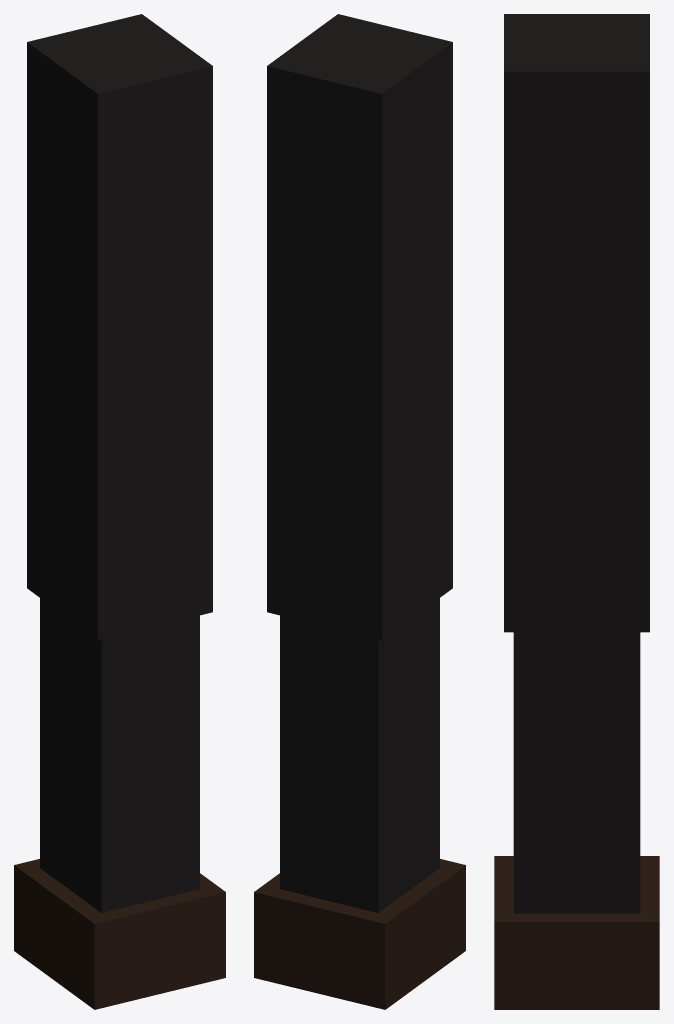
File: carreta_leg_negro.obj
3 renders of one model, left to right at view 1: azimuth 30°, elevation 25°; view 2: azimuth 150°, elevation 25°; view 3: azimuth 270°, elevation 25°, orthographic. The views are drawn at different scales.
Parts seen in each view (by area): view 1: carreta_leg_negro; view 2: carreta_leg_negro; view 3: carreta_leg_negro.
Boxes of the visible parts, x1,y1,x2,y2 form: carreta_leg_negro: (14,14,225,1009); carreta_leg_negro: (254,14,465,1009); carreta_leg_negro: (494,14,659,1009).
Bounding box in the file's own units: 0.1648 × 1.09 × 0.1752.
